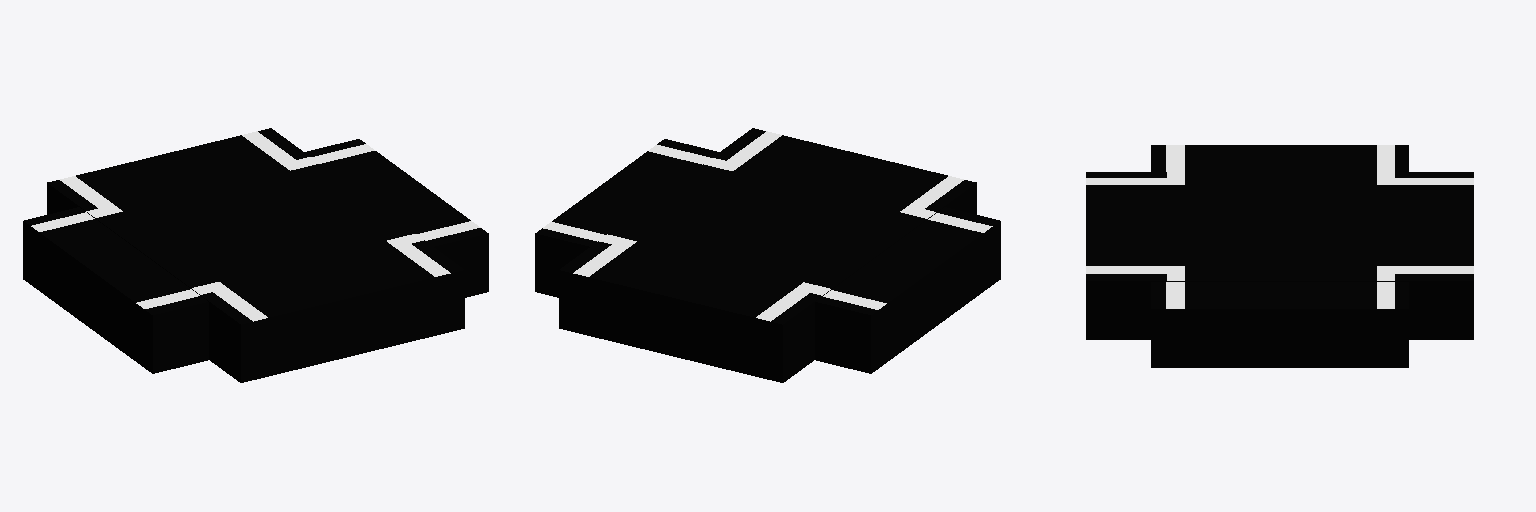
File: sidou_X.obj
The picture shows the model from 3 angles: view 1: azimuth 30°, elevation 25°; view 2: azimuth 150°, elevation 25°; view 3: azimuth 270°, elevation 25°; orthographic projection.
Parts seen in each view (by area): view 1: Cube, Cube.001_Cube.002; view 2: Cube, Cube.001_Cube.002; view 3: Cube, Cube.001_Cube.002.
Boxes of the visible parts, x1,y1,x2,y2 form: Cube: [47, 128, 464, 382]; Cube.001_Cube.002: [23, 139, 488, 373]; Cube: [559, 128, 976, 382]; Cube.001_Cube.002: [535, 139, 1000, 373]; Cube: [1086, 172, 1473, 339]; Cube.001_Cube.002: [1151, 145, 1408, 367].
Bounding box in the file's own units: 6 × 1.01 × 6.